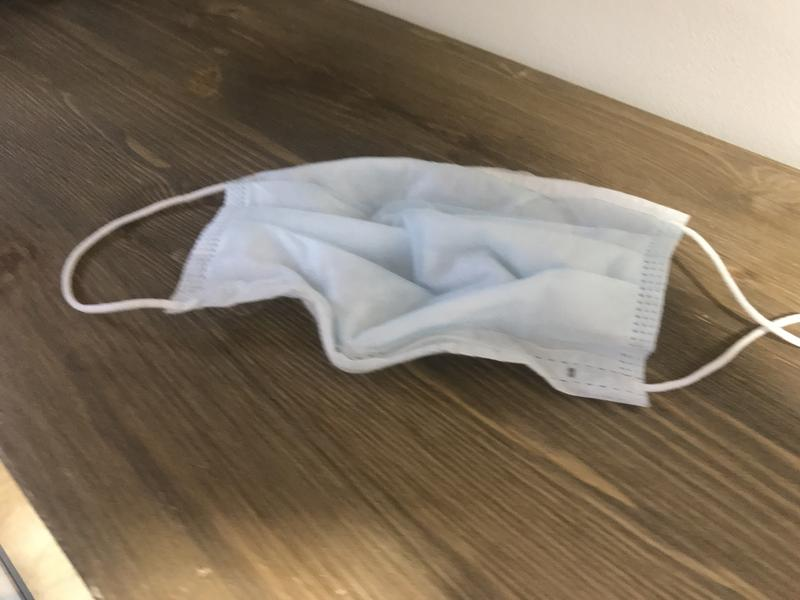medical_mask: (58, 156, 800, 389)
